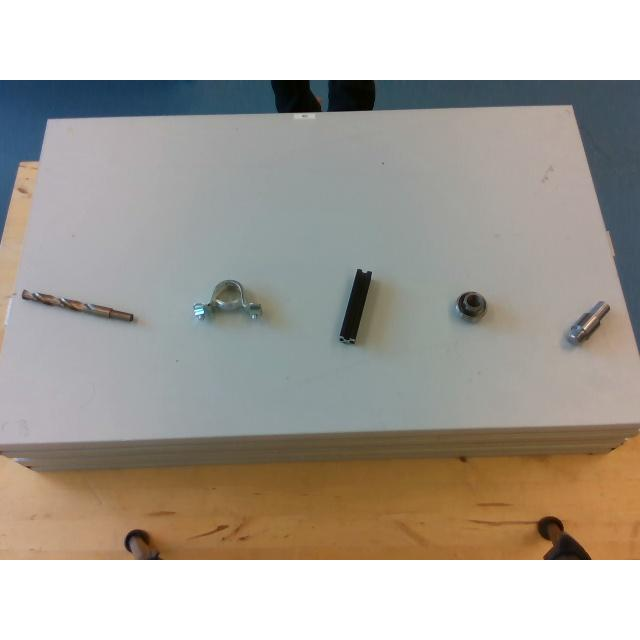Axis2: (568, 299, 610, 345)
Bearing2: (456, 291, 486, 319)
Drill: (19, 290, 132, 320)
F20_20_B: (338, 270, 369, 340)
Housing: (194, 279, 262, 319)
